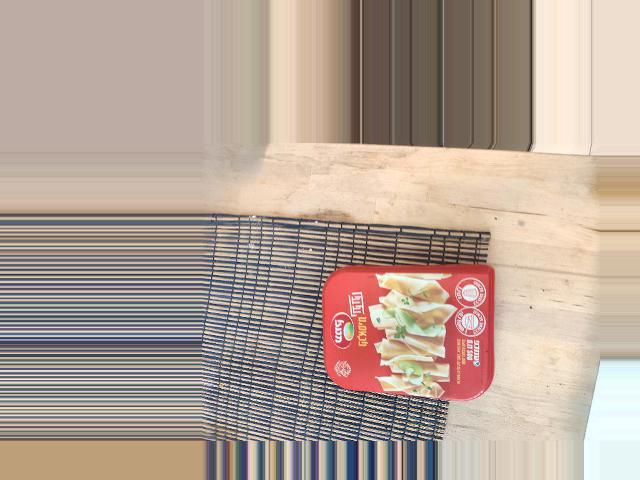cheese: (249, 258, 371, 453)
